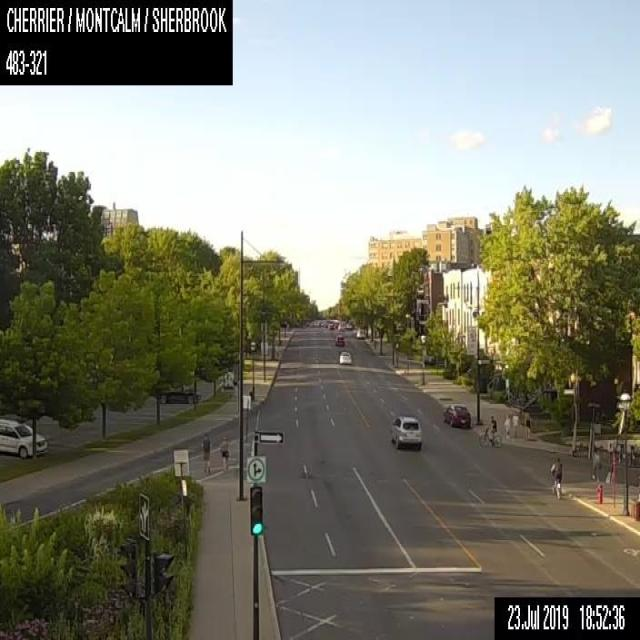cyclist: (478, 413, 501, 448), (549, 456, 562, 500)
pedestrian: (200, 431, 210, 474), (590, 446, 601, 480), (218, 436, 228, 469), (511, 410, 519, 438), (502, 412, 510, 439), (523, 412, 531, 437)
vehicle: (0, 417, 47, 457), (390, 414, 422, 449), (441, 400, 469, 428), (158, 388, 200, 403), (339, 350, 351, 363), (334, 334, 344, 346), (355, 328, 365, 338), (327, 322, 334, 329), (338, 323, 343, 331)
